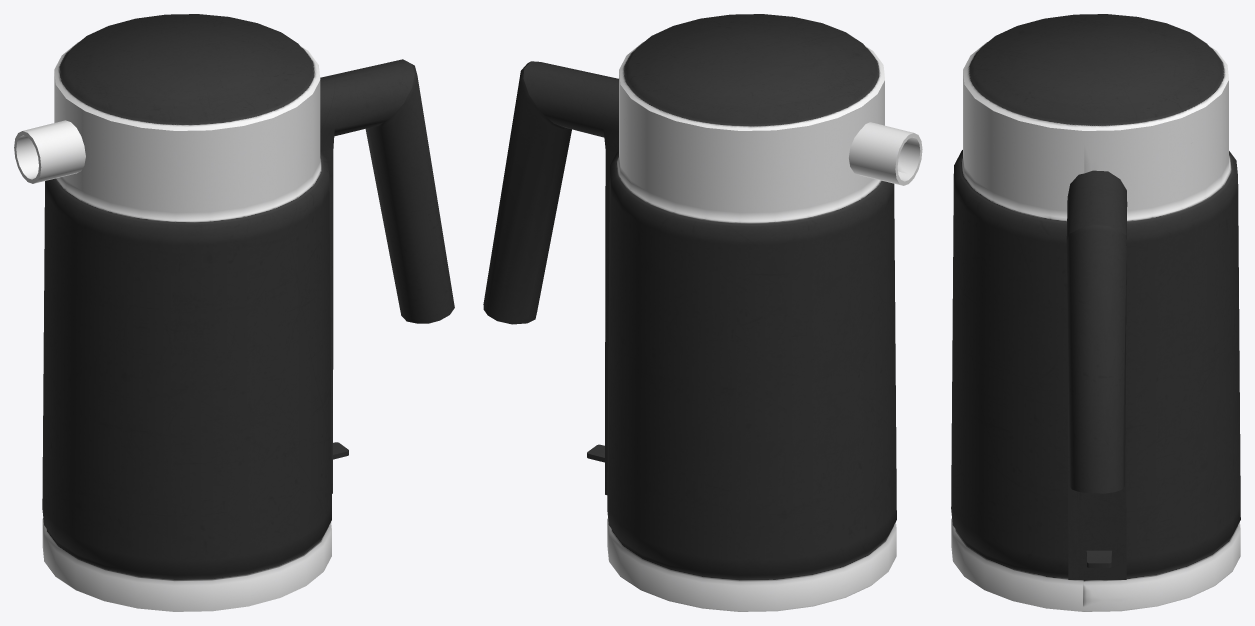
The model's file is SM_CoffeeCap_A1.fbx.
3 views of the same model, side by side, from view 1: azimuth 30°, elevation 25°; view 2: azimuth 150°, elevation 25°; view 3: azimuth 270°, elevation 25° (orthographic).
Parts seen in each view (by area): view 1: SM_CoffeeCap_A1; view 2: SM_CoffeeCap_A1; view 3: SM_CoffeeCap_A1.
Boxes of the visible parts, box(x1,y1,x2,y2) form: SM_CoffeeCap_A1: box(14, 14, 454, 611); SM_CoffeeCap_A1: box(483, 14, 922, 611); SM_CoffeeCap_A1: box(951, 14, 1240, 611).
Size of the model in its own units: 18.42 by 10.95 by 20.23.
1 material, 1 textured.
